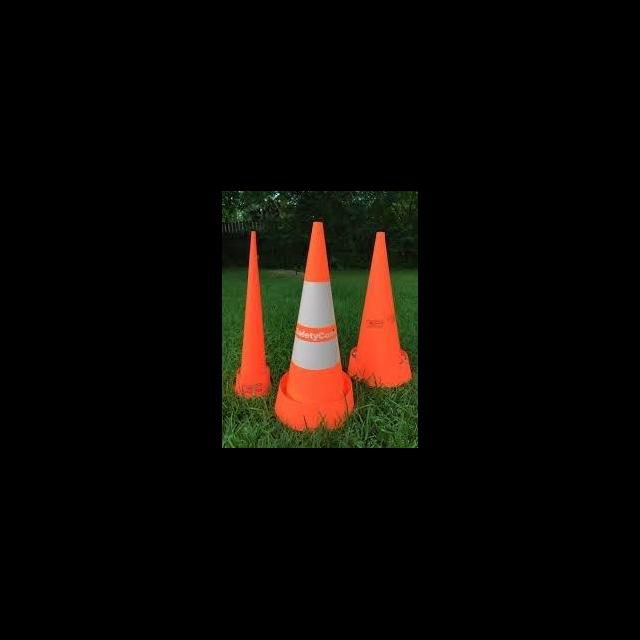Safety Cone: (276, 222, 355, 436), (348, 233, 413, 388), (241, 230, 269, 395)
